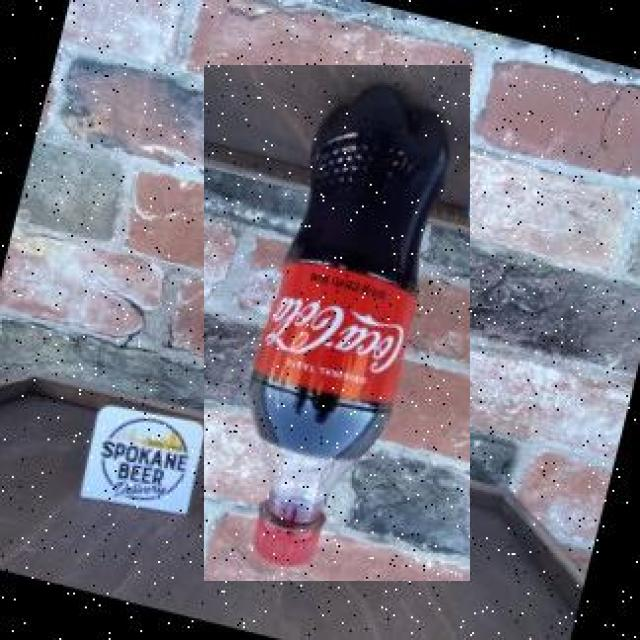coca-cola: (204, 65, 470, 581)
